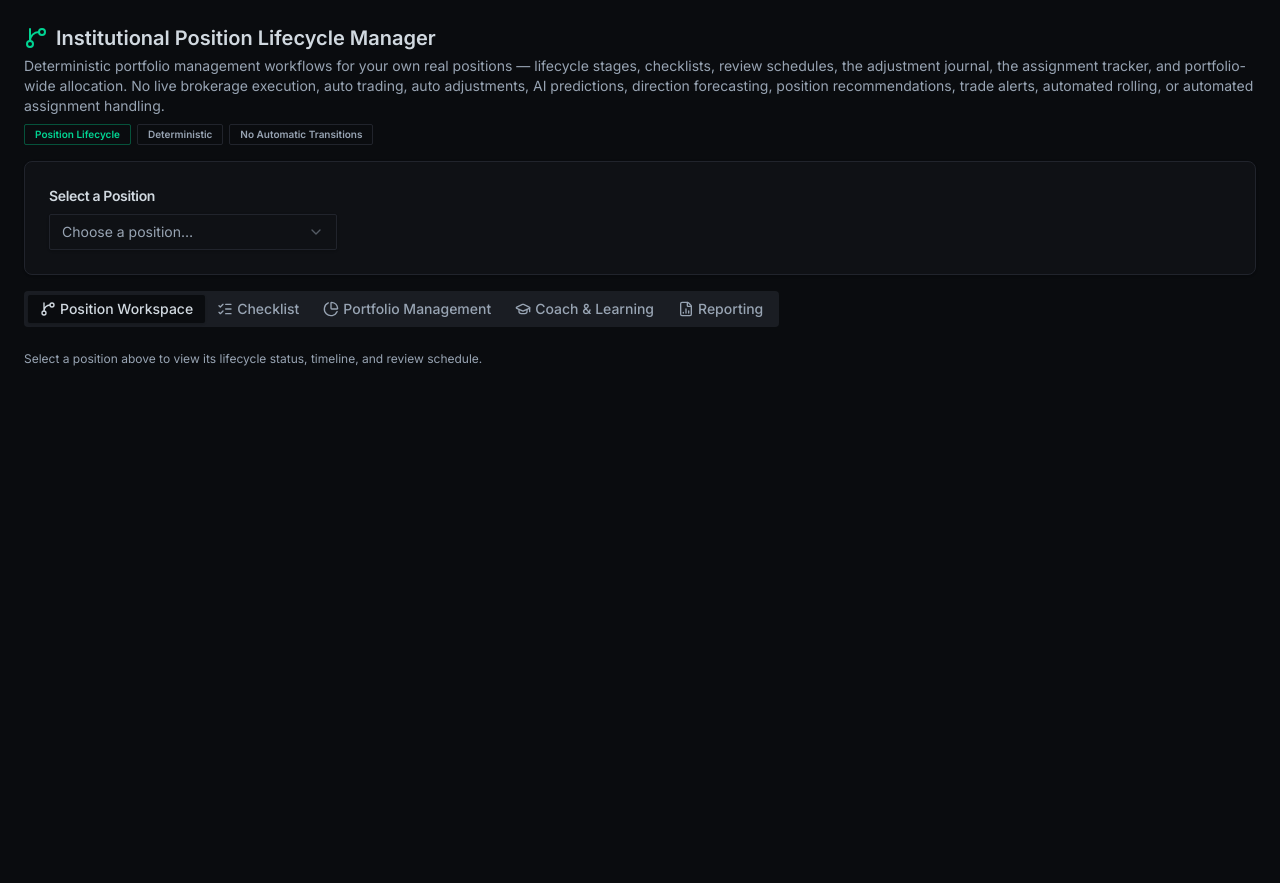
Test: OptionsLifecycleManager › selecting a position shows its real lifecycle stage and review cadence — Lifecycle Status & Review Schedule
The image size is (1280, 883).
What coordinates should you click on to do the following:
click the dropdown with test id "position-picker-select"
I would click on:
 (193, 232)
Its box is [49, 214, 337, 250].
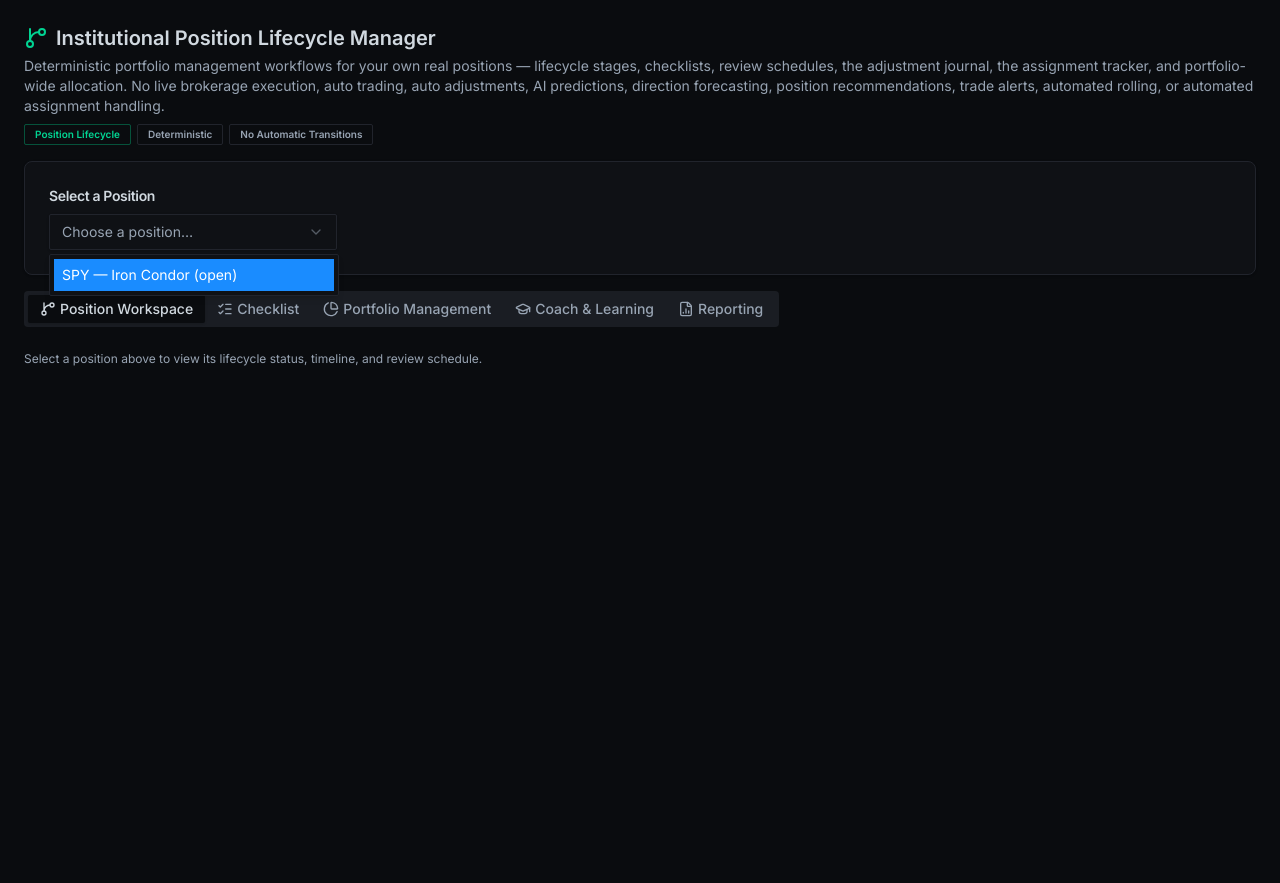
What coordinates should you click on to do the following:
click the option with test id "position-picker-option-1"
I would click on:
 (194, 275)
Its box is [54, 259, 334, 291].
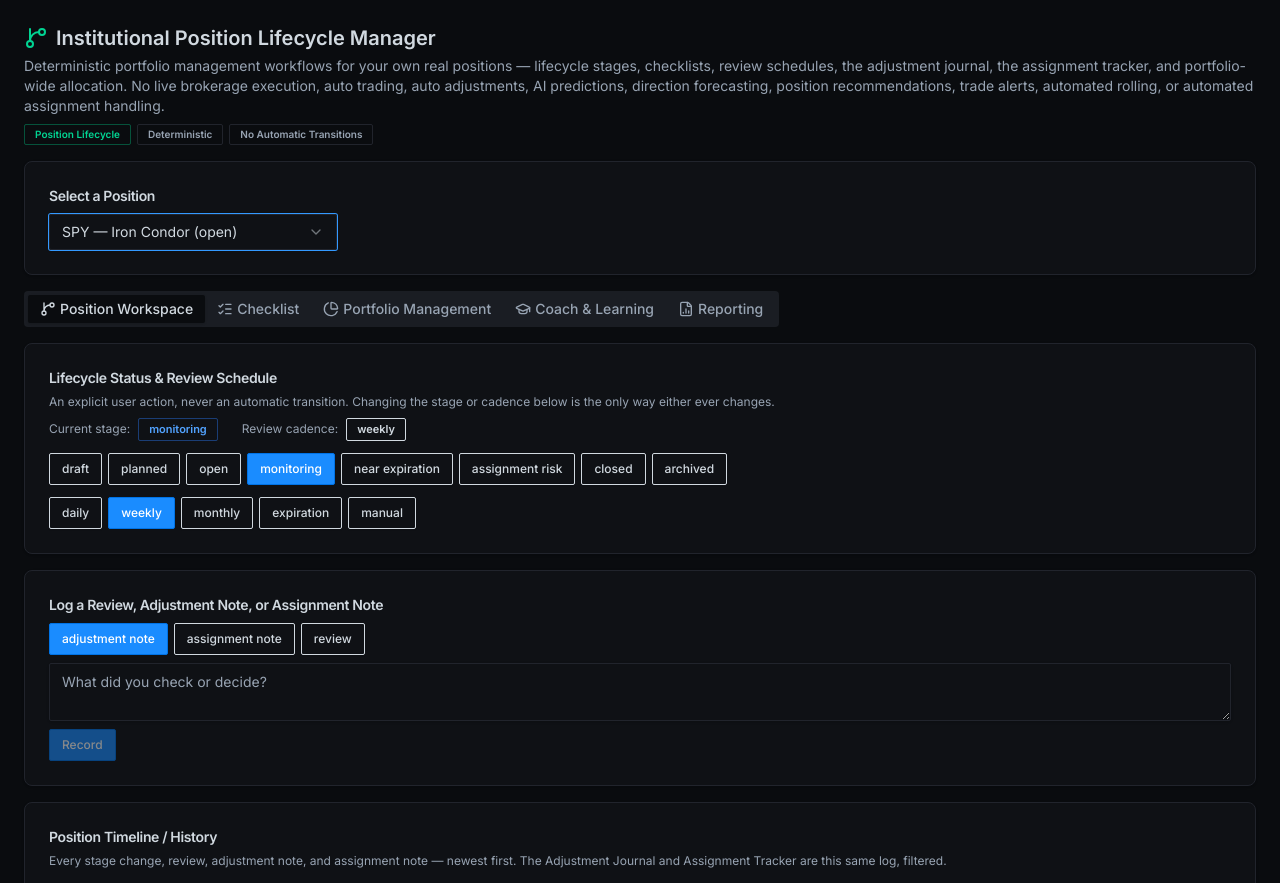
Now the element with test id "current-stage-badge" shows "monitoring", box [149, 422, 207, 436]
Now the element with test id "current-stage-badge" shows "weekly", box [357, 422, 395, 436]
